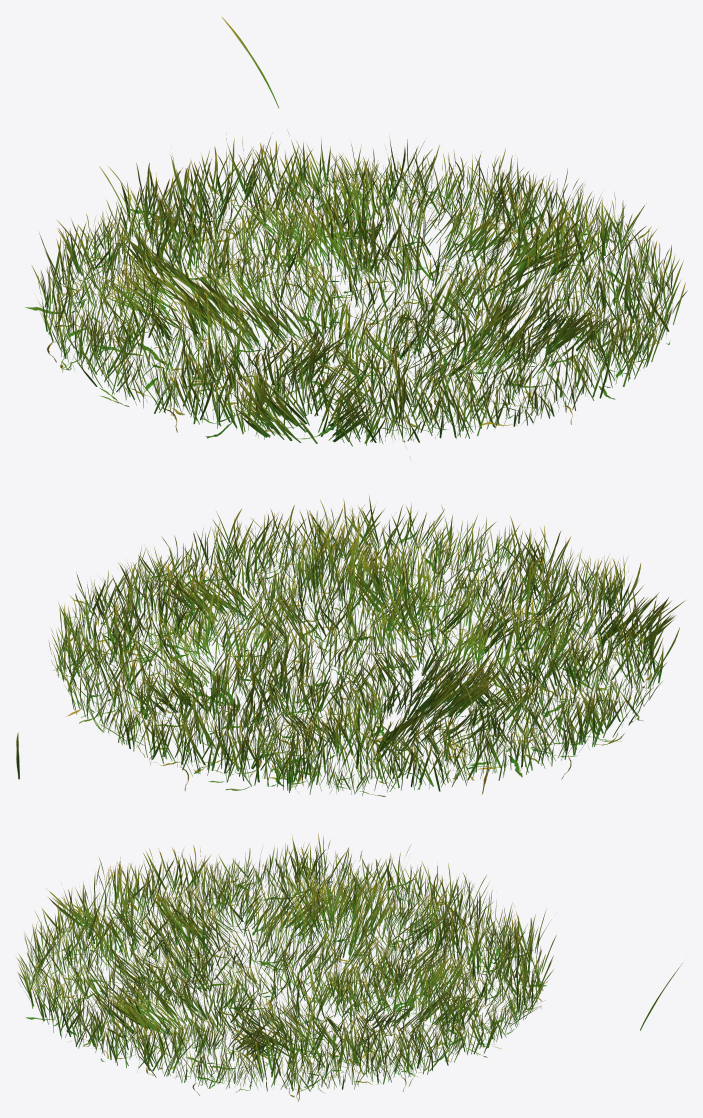
Rendered from nencov2222.glb.
The picture shows the model from 3 angles, top to bottom: view 1: azimuth 30°, elevation 25°; view 2: azimuth 150°, elevation 25°; view 3: azimuth 270°, elevation 25°; orthographic projection. The views are drawn at different scales.
Visible parts, largest first — view 1: GrassEmitterCircleMesh.004|BR_MainGrass_Diff.071|Dupli|117_. (×2), GrassEmitterCircleMesh.004|BR_MainGrass_Diff.071|Dupli|117_, GrassEmitterCircleMesh.004|BR_MainGrass_Diff.071|Dupli|117_B; view 2: GrassEmitterCircleMesh.004|BR_MainGrass_Diff.071|Dupli|117_. (×2), GrassEmitterCircleMesh.004|BR_MainGrass_Diff.071|Dupli|117_, GrassEmitterCircleMesh.004|BR_MainGrass_Diff.071|Dupli|117_B; view 3: GrassEmitterCircleMesh.004|BR_MainGrass_Diff.071|Dupli|117_. (×2), GrassEmitterCircleMesh.004|BR_MainGrass_Diff.071|Dupli|117_, GrassEmitterCircleMesh.004|BR_MainGrass_Diff.071|Dupli|117_B.
Part boxes in pixels (left/top/right/bottom): GrassEmitterCircleMesh.004|BR_MainGrass_Diff.071|Dupli|117_. (×2): left=39, top=132, right=647, bottom=442; GrassEmitterCircleMesh.004|BR_MainGrass_Diff.071|Dupli|117_: left=57, top=17, right=663, bottom=446; GrassEmitterCircleMesh.004|BR_MainGrass_Diff.071|Dupli|117_B: left=25, top=167, right=687, bottom=458; GrassEmitterCircleMesh.004|BR_MainGrass_Diff.071|Dupli|117_. (×2): left=62, top=503, right=654, bottom=795; GrassEmitterCircleMesh.004|BR_MainGrass_Diff.071|Dupli|117_: left=16, top=509, right=685, bottom=788; GrassEmitterCircleMesh.004|BR_MainGrass_Diff.071|Dupli|117_B: left=51, top=495, right=666, bottom=796; GrassEmitterCircleMesh.004|BR_MainGrass_Diff.071|Dupli|117_. (×2): left=16, top=848, right=553, bottom=1083; GrassEmitterCircleMesh.004|BR_MainGrass_Diff.071|Dupli|117_: left=18, top=845, right=682, bottom=1091; GrassEmitterCircleMesh.004|BR_MainGrass_Diff.071|Dupli|117_B: left=25, top=833, right=549, bottom=1101.
Size of the model in its own units: 10.6 by 1.94 by 12.72.
Materials: 1 (1 with a texture image).
